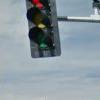Traffic light: (17, 4, 67, 62)
